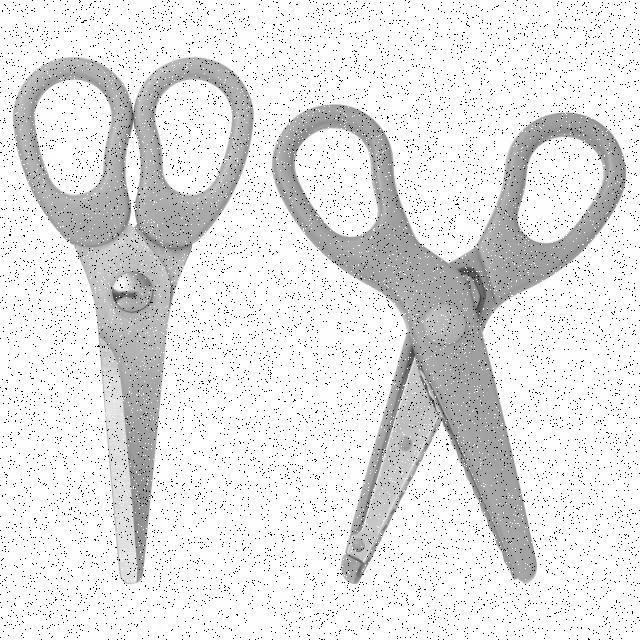scissors: (268, 100, 632, 590), (7, 51, 258, 586)
